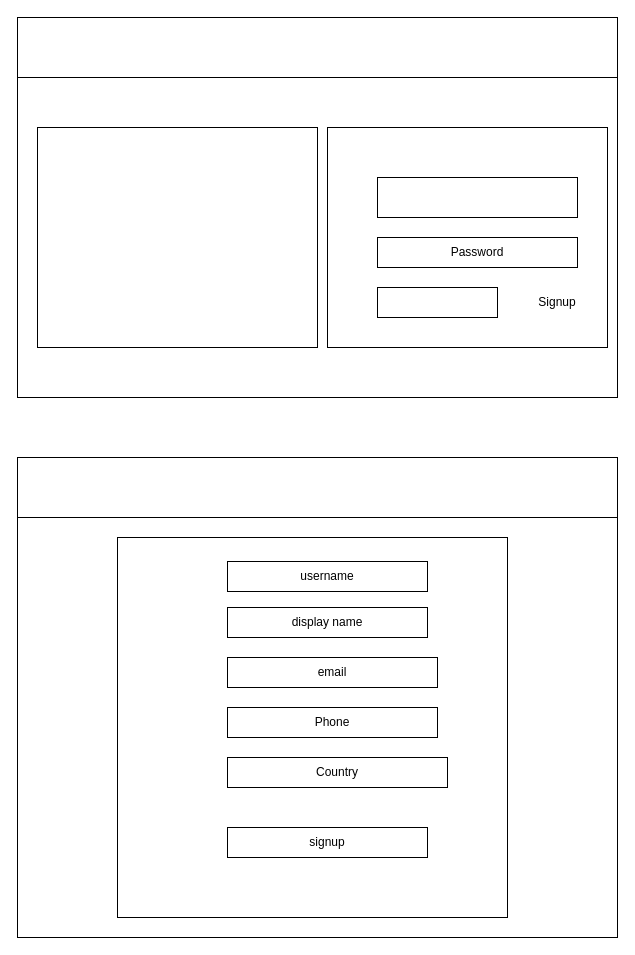
Image size: 635x955. Some labels were removed from this diagram. The centre of each missing label's shape, as x and y in pixels:
"Enter Username" belongs at [477,197].
"Login" belongs at [437,302].
